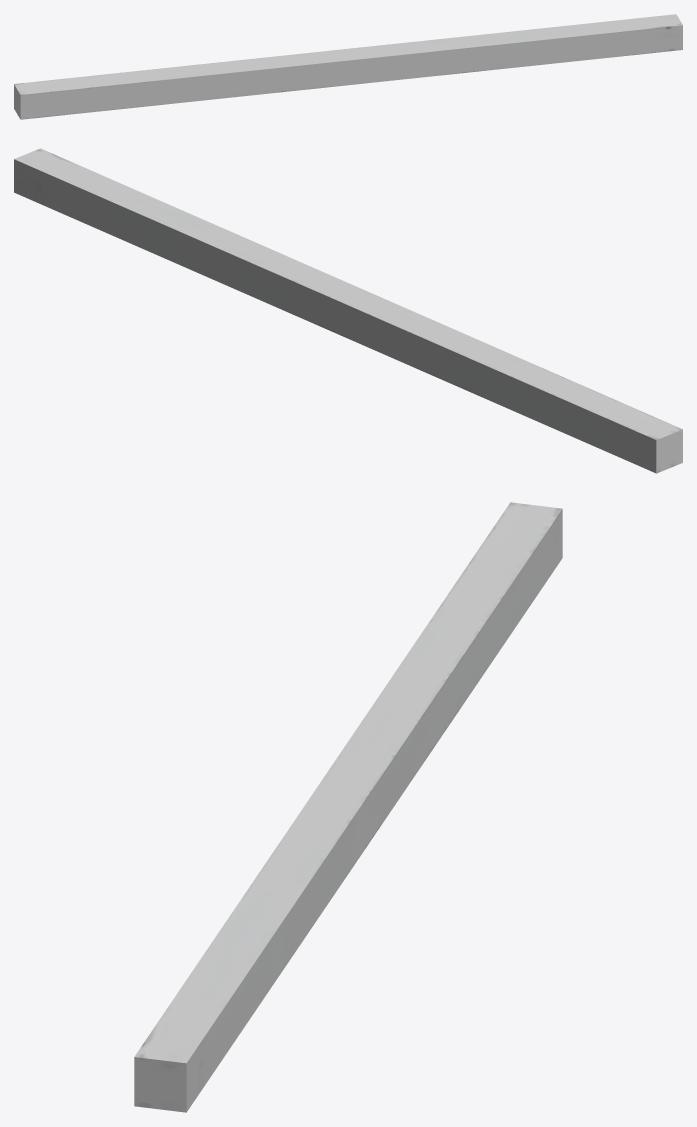
Rendered from frame__back_side_rail_1.glb.
3 views of the same model, one above another, from view 1: azimuth 30°, elevation 25°; view 2: azimuth 150°, elevation 25°; view 3: azimuth 270°, elevation 25° (orthographic). The views are drawn at different scales.
Visible parts, largest first — view 1: world; view 2: world; view 3: world.
Part boxes in pixels (left/top/right/bottom): world: left=14, top=14, right=682, bottom=119; world: left=14, top=148, right=682, bottom=473; world: left=134, top=502, right=562, bottom=1112.
Size of the model in its own units: 0.8294 by 0.034 by 0.2677.
Materials: 1 (1 with a texture image).
